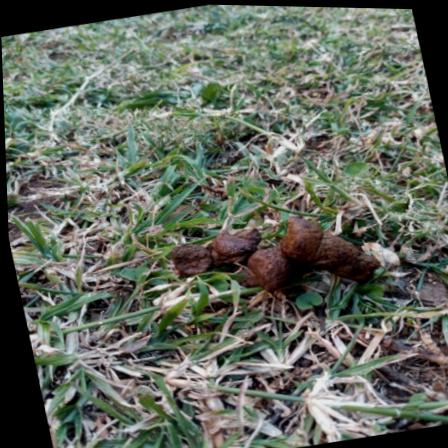dog-poop: (145, 185, 394, 334)
